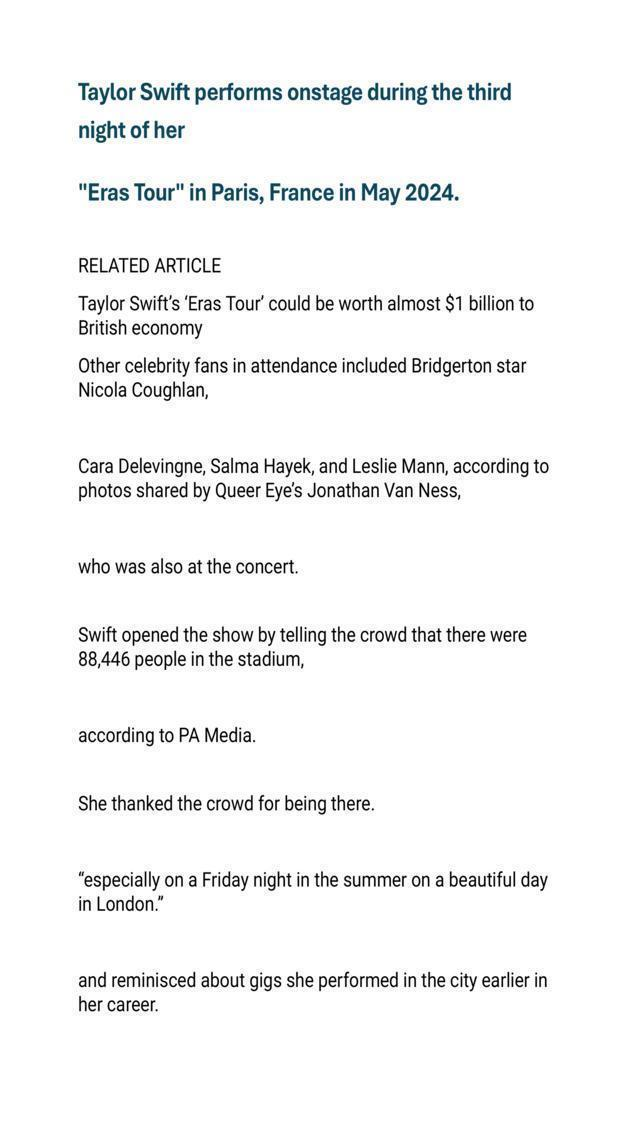Text: (70, 285, 551, 317), (70, 349, 534, 382), (71, 76, 516, 110), (74, 963, 556, 994), (76, 172, 467, 210), (71, 618, 533, 649), (75, 452, 563, 480), (68, 866, 554, 892), (73, 477, 469, 507), (74, 788, 378, 822), (71, 548, 305, 582), (70, 648, 320, 674), (76, 722, 260, 756), (70, 250, 232, 282), (75, 115, 192, 148), (72, 382, 212, 408), (68, 319, 217, 343), (70, 893, 166, 919), (74, 997, 166, 1022)
